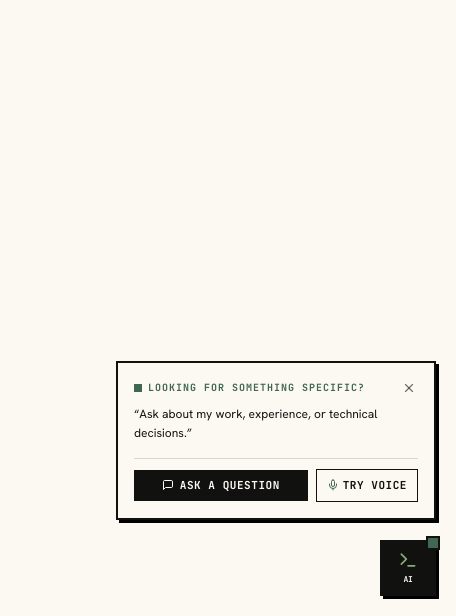
5-Second Automatic Invitation (Section 17) › shows compact invitation card after 5 seconds with zero mic or network side-effects
Expected: the element named "Assistant Inquiry Invitation" is shown, [116, 361, 436, 520]
Expected: the text "Looking for something specific?" is shown, [148, 379, 365, 396]
// Explicit interaction opens panel
Click the button "Ask a Question" at (221,485), box [134, 470, 308, 501]
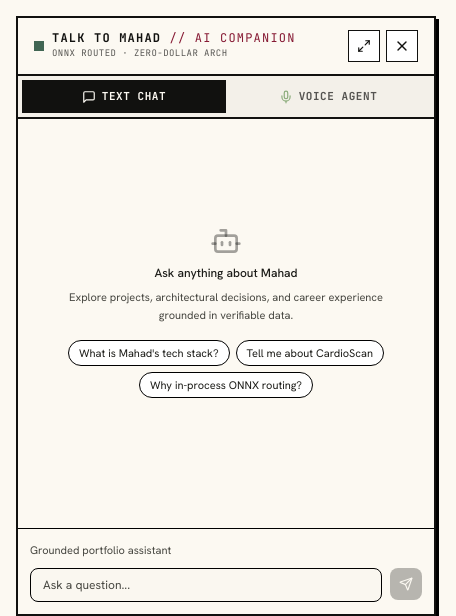
Expected: the element named "Talk to Mahad conversational companion" is shown
